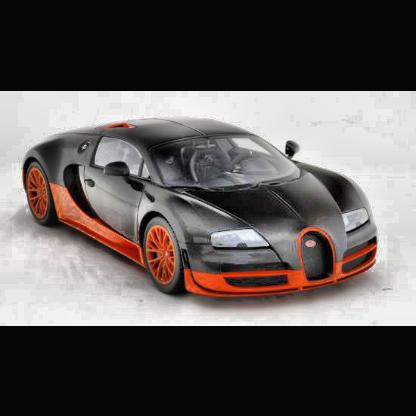Bugatti Veyron 16-4 Coupe 2009: (26, 118, 380, 299)
